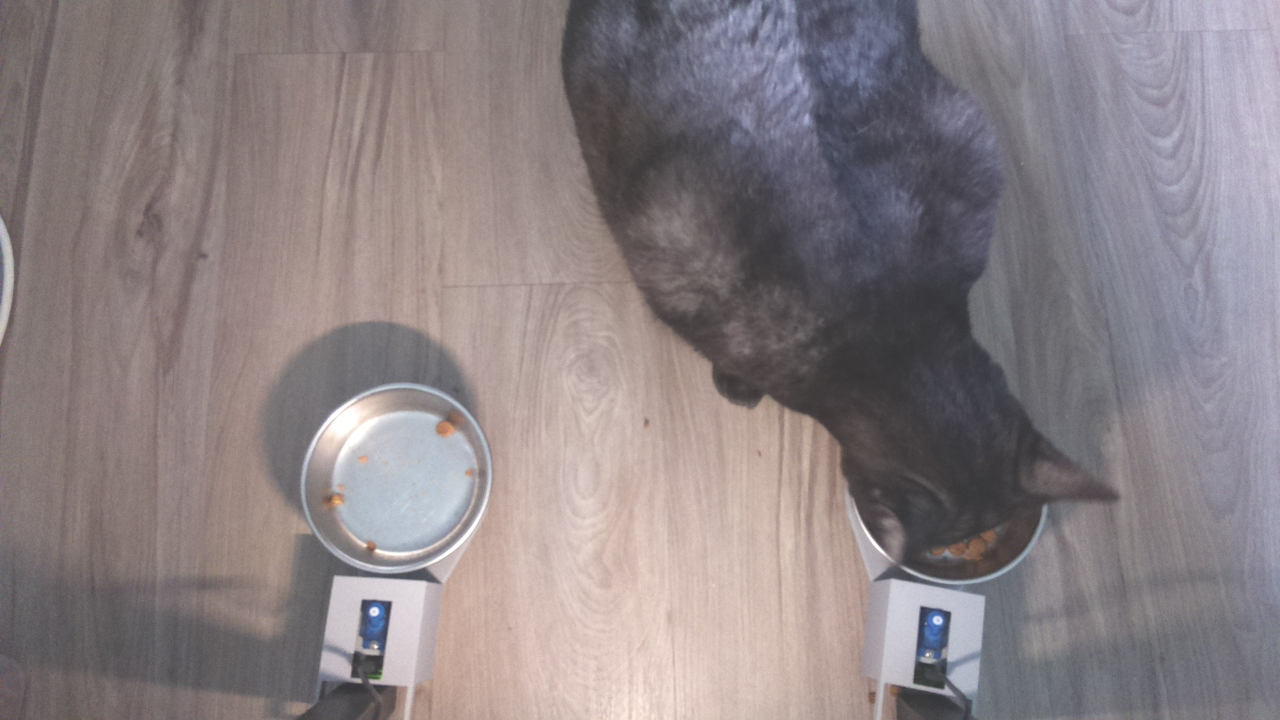open_bowl: (299, 377, 494, 580)
saki_eating: (837, 354, 1135, 590)
